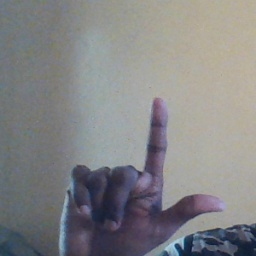L: (56, 96, 226, 256)
